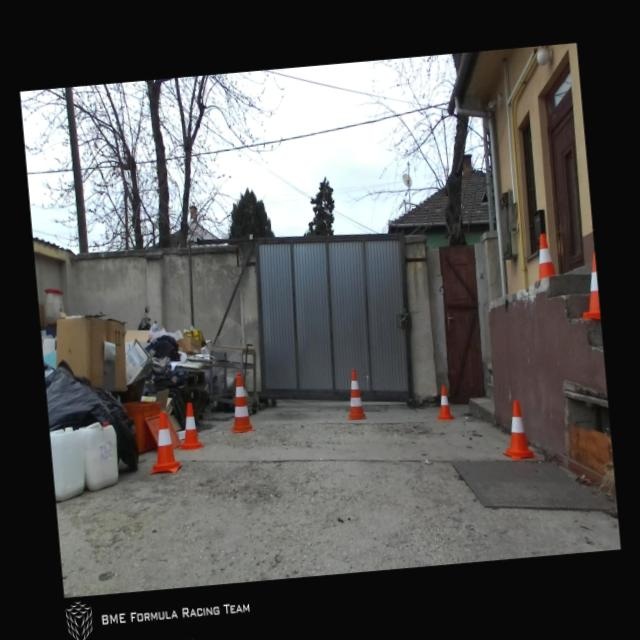large_orange_cone: (226, 372, 256, 434), (343, 368, 366, 421)
orange_cone: (498, 397, 538, 460), (144, 410, 183, 474), (574, 250, 600, 320), (173, 402, 206, 452), (535, 232, 556, 280), (434, 384, 454, 421)
